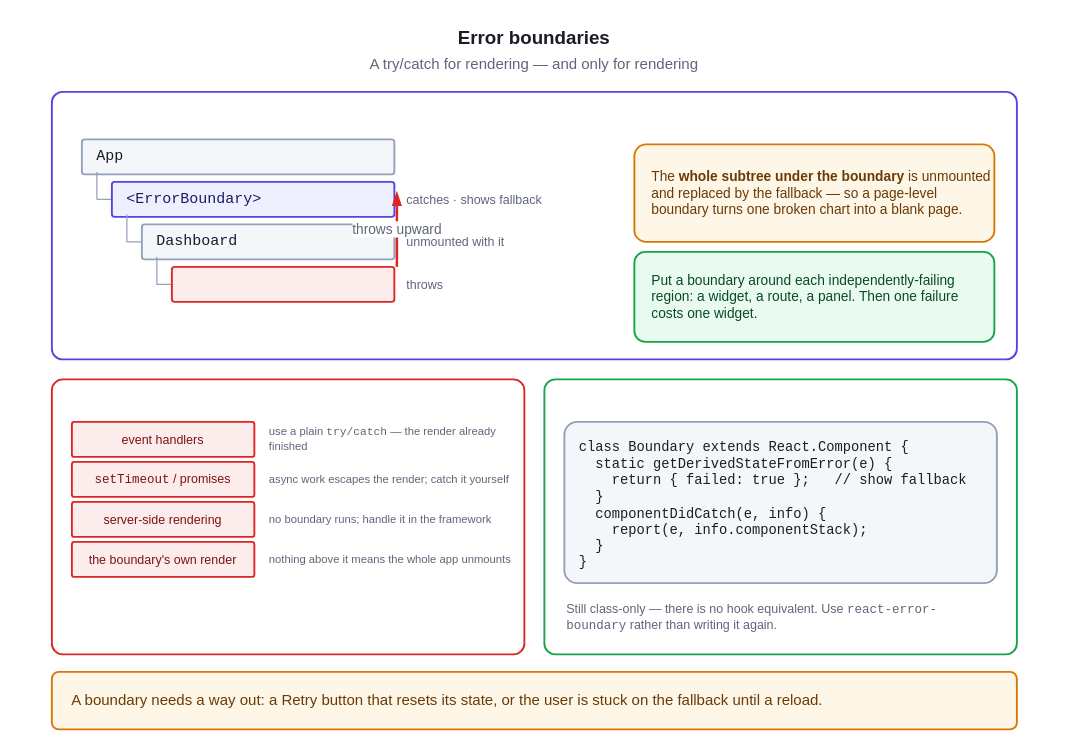
This 1068x751 diagram has some shape labels left out. The box of each missing label's shape, as (x1, y1, x2, y2) in pixels:
Caught: (543, 378, 1017, 655)
Chart: (170, 265, 395, 302)
Not caught by a boundary: (50, 378, 525, 655)
The error climbs to the nearest boundary above it: (50, 90, 1017, 360)
